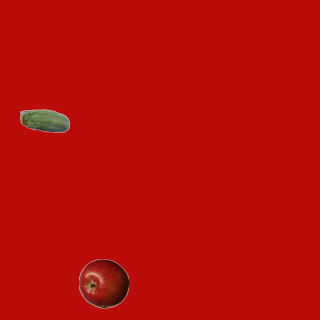Apple Braeburn: (78, 258, 128, 308)
Corn Husk: (19, 97, 69, 147)
